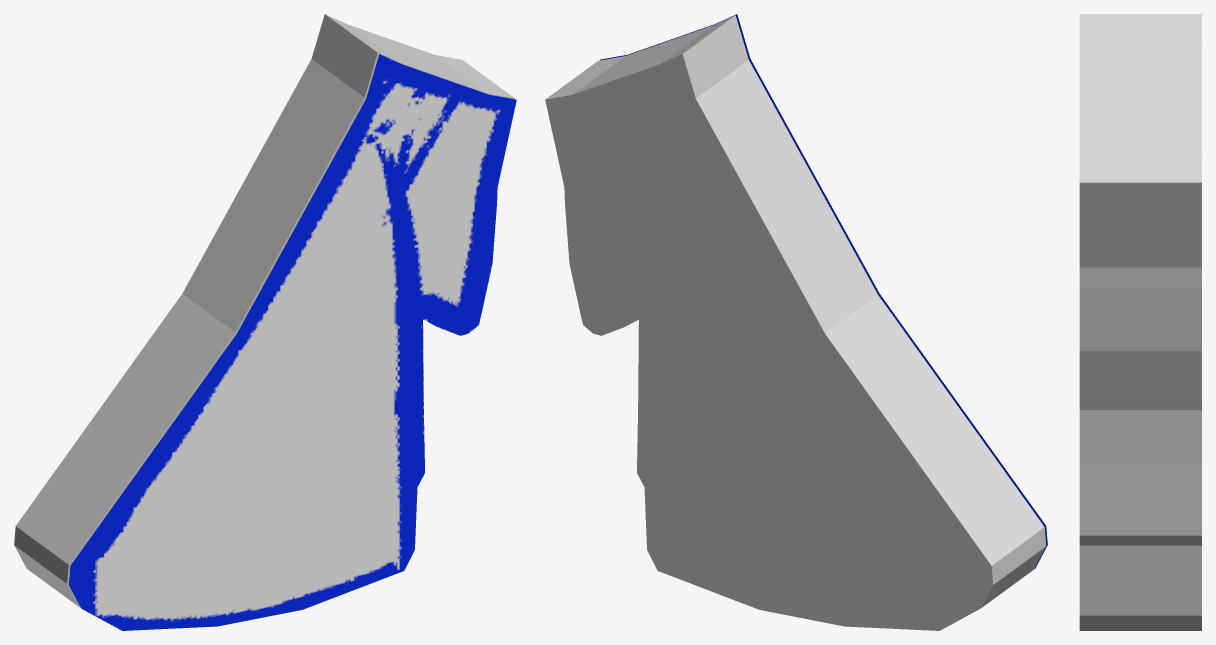
3 views of the same model, side by side, from view 1: azimuth 30°, elevation 25°; view 2: azimuth 150°, elevation 25°; view 3: azimuth 270°, elevation 25° (orthographic). The views are drawn at different scales.
Visible parts, largest first — view 1: In_5_1, In_5_0; view 2: In_5_0, In_5_1; view 3: In_5_0.
Part boxes in pixels (x1,y1,x2,y2): In_5_1: [68, 54, 516, 630]; In_5_0: [14, 14, 515, 607]; In_5_0: [545, 15, 1046, 630]; In_5_1: [600, 14, 1047, 568]; In_5_0: [1079, 14, 1201, 630].
Bounding box in the file's own units: 2.44 × 2.79 × 0.515.
2 materials, 1 textured.
